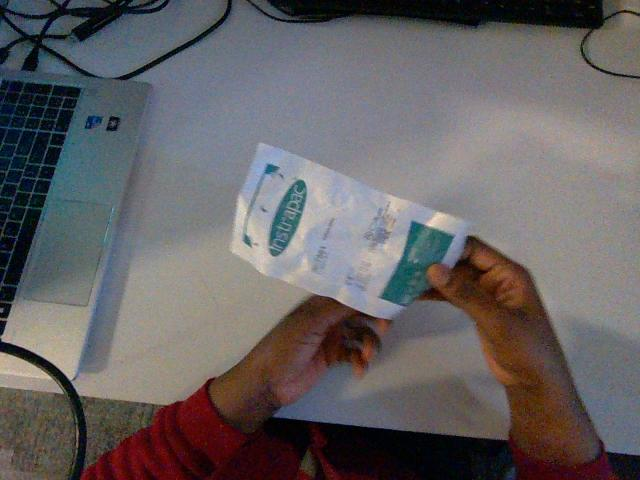gallipot: (231, 144, 469, 317)
